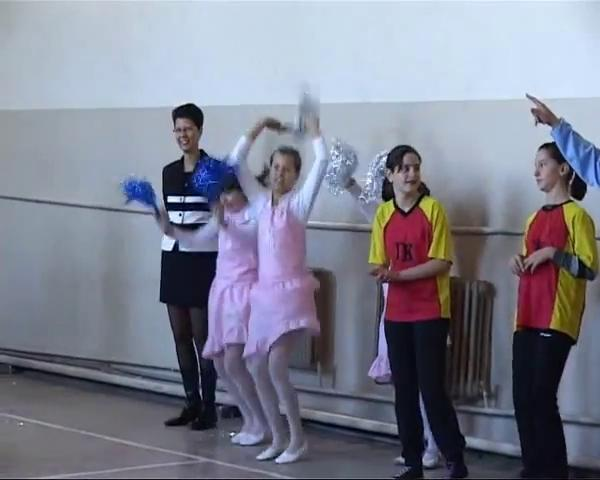victim: (136, 160, 273, 448), (122, 100, 238, 434), (224, 109, 328, 469), (366, 144, 476, 479), (507, 140, 598, 472)
